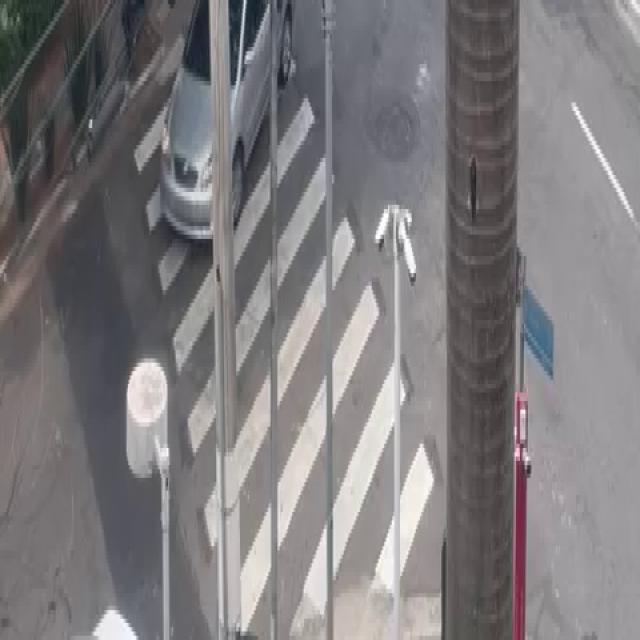car: (160, 0, 300, 251)
